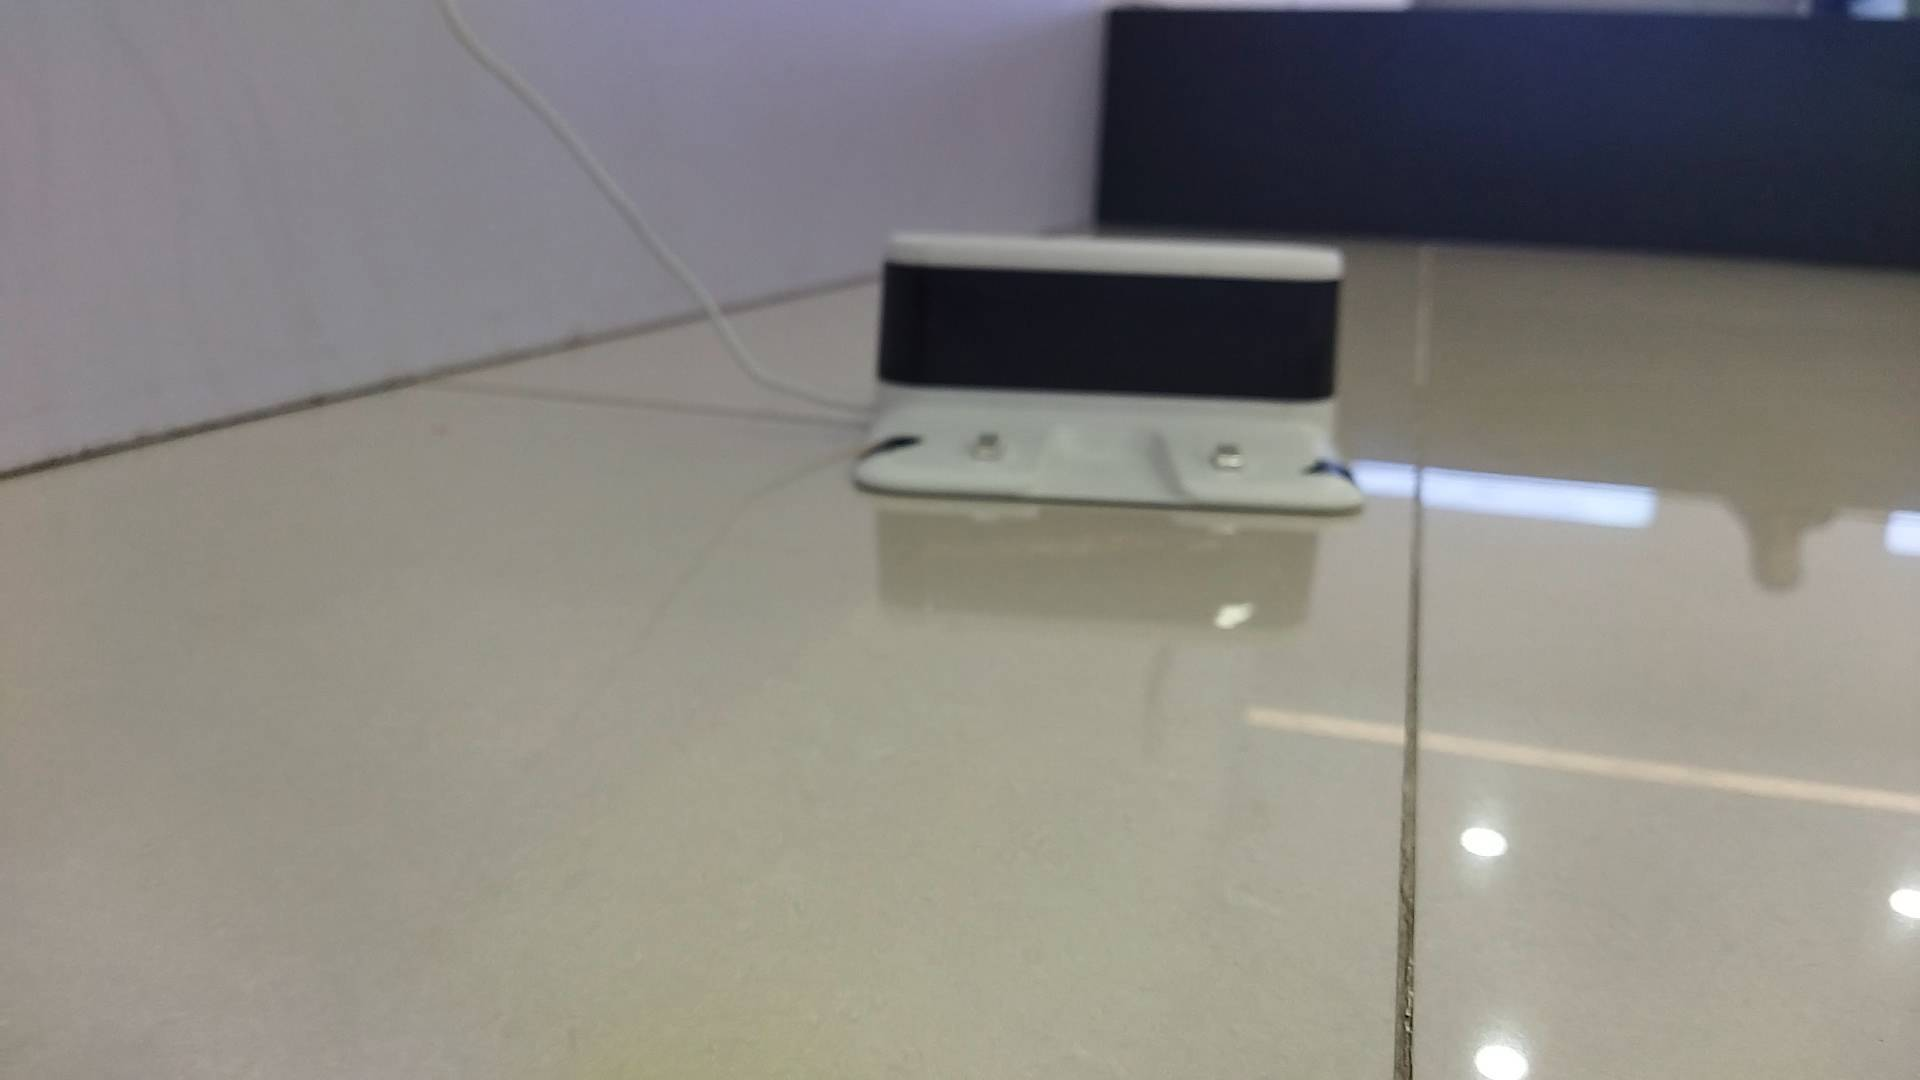recharge seat: (858, 233, 1367, 517)
